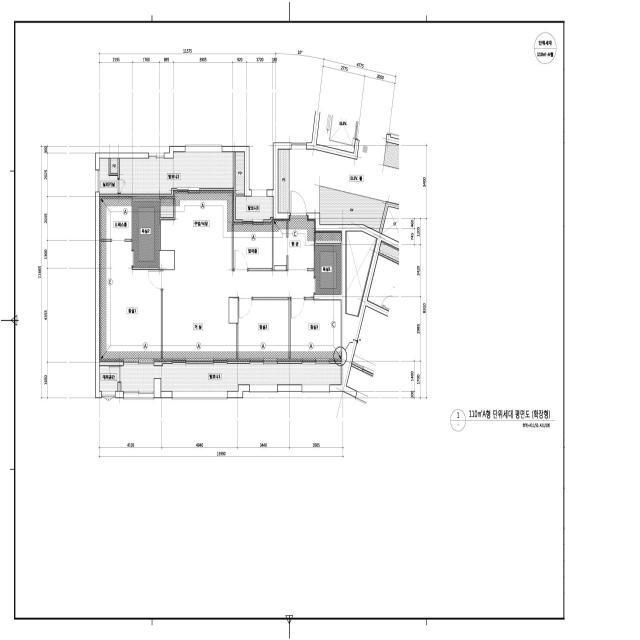space_balconi: (120, 364, 341, 391), (120, 152, 234, 194), (236, 196, 273, 220)
space_bedroom: (99, 242, 161, 361), (238, 300, 289, 361), (291, 300, 341, 361)
space_dressroom: (99, 197, 132, 239)
space_elevator: (317, 112, 357, 153)
space_elevator_hall: (289, 127, 399, 213)
space_front: (272, 215, 315, 268)
space_kitchen: (161, 191, 234, 270)
space_living_room: (163, 271, 314, 361)
space_other: (320, 186, 386, 232), (346, 231, 377, 316), (234, 222, 272, 268), (278, 150, 289, 213), (382, 206, 399, 242), (100, 366, 119, 391), (384, 142, 399, 169), (236, 152, 244, 194), (316, 231, 341, 243), (161, 196, 173, 218), (110, 158, 118, 173)
space_outdoor_room: (99, 158, 118, 194)
space_toilet: (134, 201, 159, 267), (316, 245, 341, 294)
